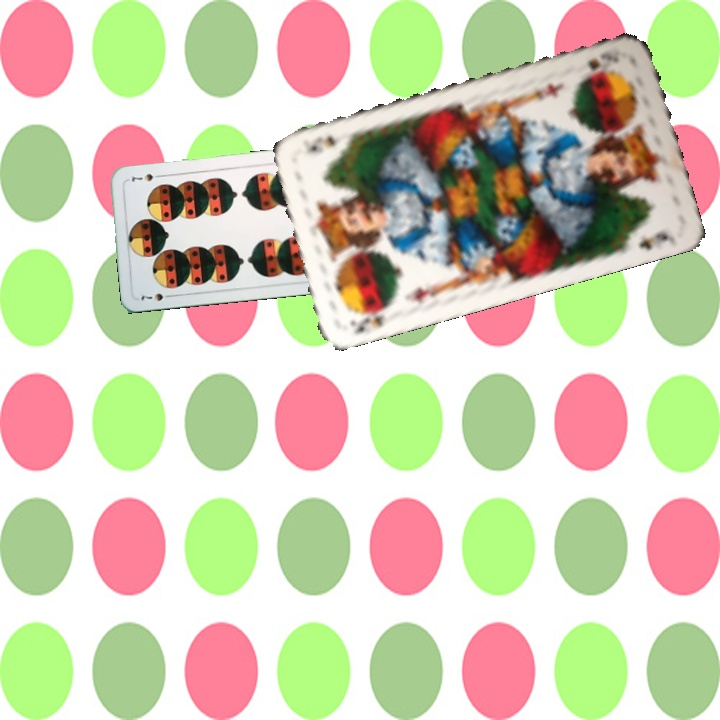S7: (137, 289, 176, 304)
SK: (346, 299, 396, 337), (584, 47, 621, 73)
